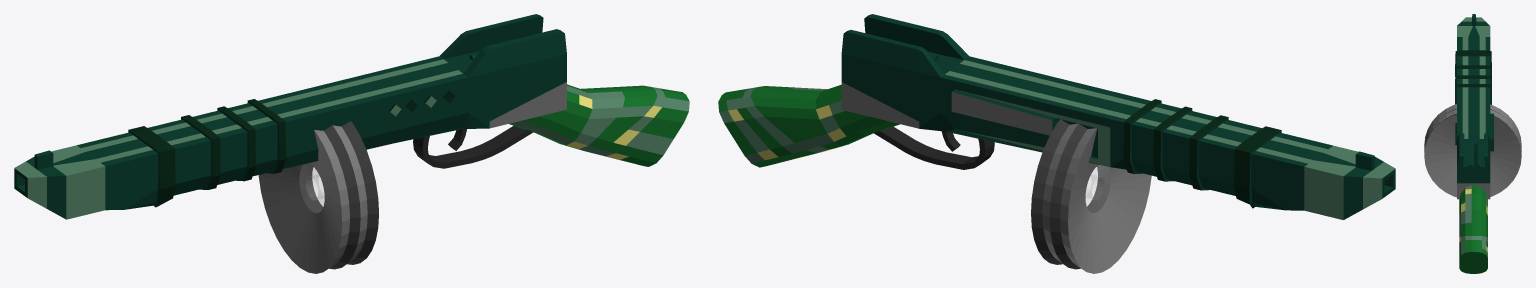
File: CDThommyGun.fbx
3 renders of one model, left to right at view 1: azimuth 30°, elevation 25°; view 2: azimuth 150°, elevation 25°; view 3: azimuth 270°, elevation 25°, orthographic. The views are drawn at different scales.
Parts seen in each view (by area): view 1: Main, CD/Drum, Grip, Trigger&Guard; view 2: Main, CD/Drum, Grip, Trigger&Guard; view 3: Main, CD/Drum, Grip.
Boxes of the visible parts, x1,y1,x2,y2 form: Main: [14, 14, 566, 219]; CD/Drum: [258, 121, 378, 273]; Grip: [509, 84, 689, 166]; Trigger&Guard: [413, 126, 533, 168]; Main: [841, 14, 1395, 219]; CD/Drum: [1031, 119, 1151, 273]; Grip: [718, 84, 899, 167]; Trigger&Guard: [873, 126, 994, 169]; Main: [1455, 14, 1493, 199]; CD/Drum: [1424, 104, 1521, 197]; Grip: [1459, 185, 1487, 273].
Size of the model in its own units: 4471 by 1183 by 985.
